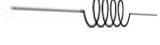inductor: (76, 0, 137, 28)
